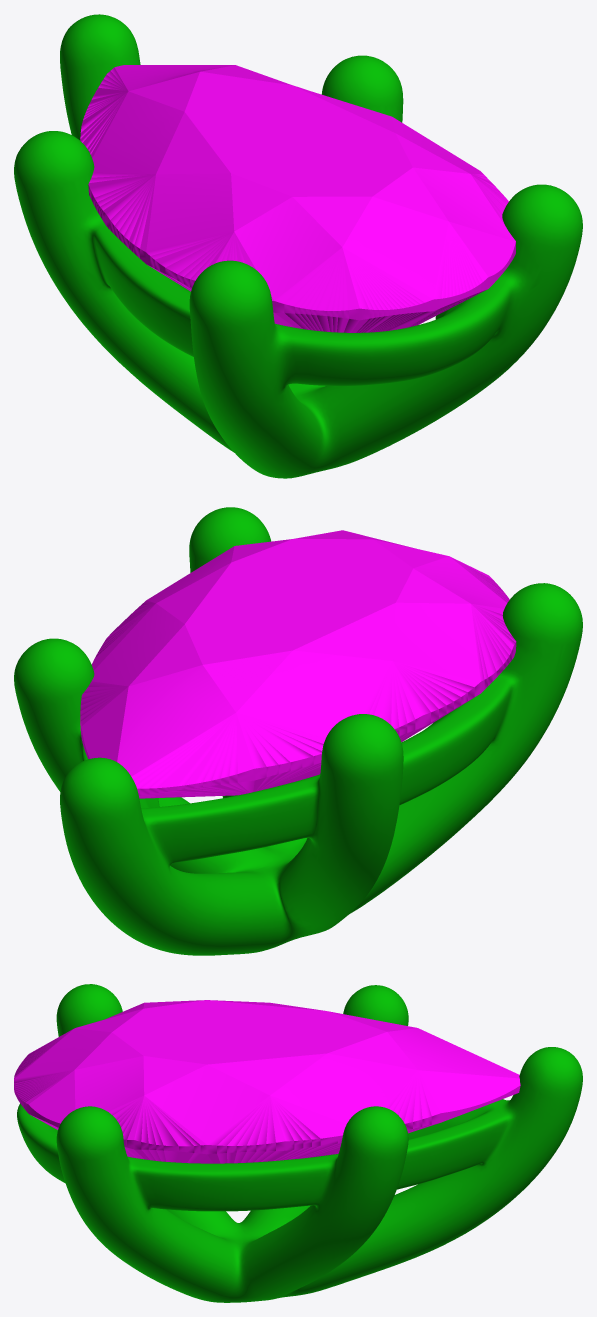
3 renders of one model, top to bottom at view 1: azimuth 30°, elevation 25°; view 2: azimuth 150°, elevation 25°; view 3: azimuth 270°, elevation 25°, orthographic. The views are drawn at different scales.
Parts seen in each view (by area): view 1: Metal01, Diamond_Pear; view 2: Metal01, Diamond_Pear; view 3: Metal01, Diamond_Pear.
Part boxes in pixels (x1,y1,x2,y2): Metal01: [14, 14, 582, 478]; Diamond_Pear: [80, 65, 515, 332]; Metal01: [14, 507, 582, 955]; Diamond_Pear: [80, 530, 516, 798]; Metal01: [17, 984, 582, 1302]; Diamond_Pear: [14, 1000, 520, 1163].
Size of the model in its own units: 7.14 by 5.72 by 11.44.
